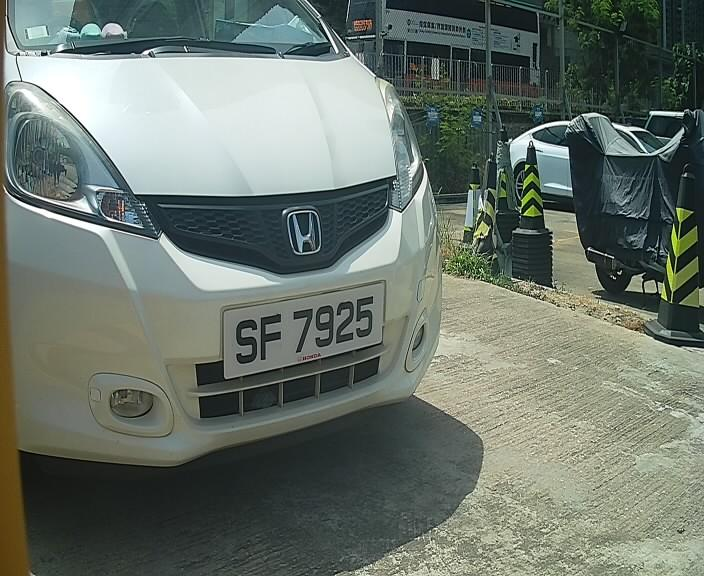License Plate: (217, 276, 390, 386)
